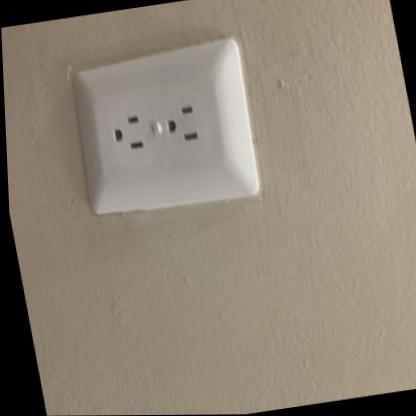OUTLET: (60, 40, 264, 223)
